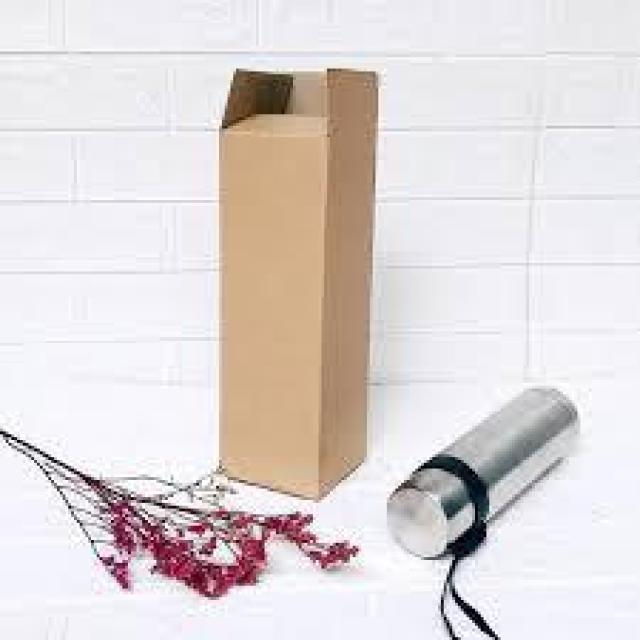box: (218, 67, 374, 503)
